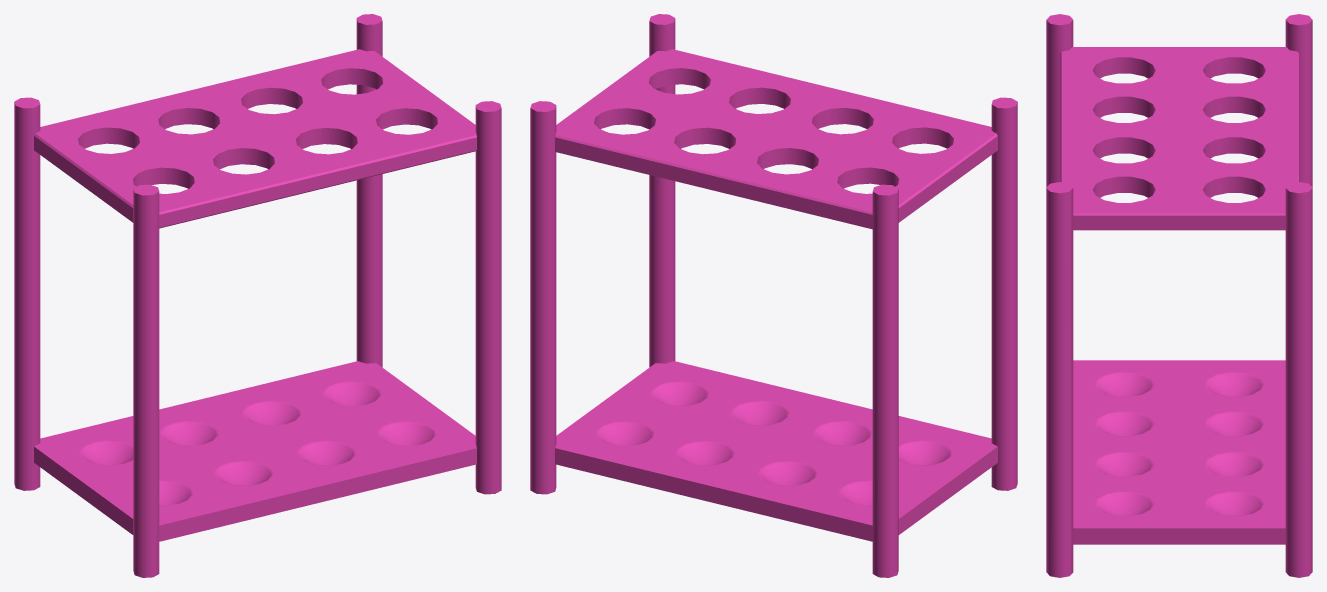
The model's file is Laboratory_Tripod.fbx.
3 views of the same model, side by side, from view 1: azimuth 30°, elevation 25°; view 2: azimuth 150°, elevation 25°; view 3: azimuth 270°, elevation 25° (orthographic).
Visible parts, largest first — view 1: SM_Laboratory_Tripod; view 2: SM_Laboratory_Tripod; view 3: SM_Laboratory_Tripod.
Part boxes in pixels (x1,y1,x2,y2): SM_Laboratory_Tripod: (14, 14, 501, 577); SM_Laboratory_Tripod: (530, 14, 1017, 577); SM_Laboratory_Tripod: (1046, 14, 1312, 577).
Size of the model in its own units: 0.1766 by 0.1765 by 0.1108.
